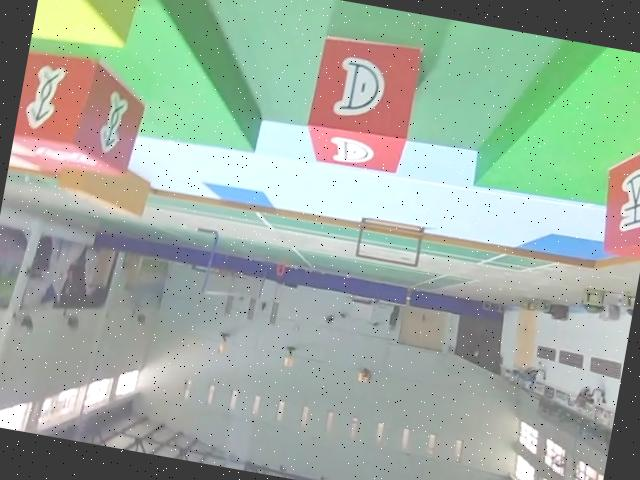R2 Real: (10, 47, 151, 179), (300, 31, 423, 179), (596, 123, 640, 259)
